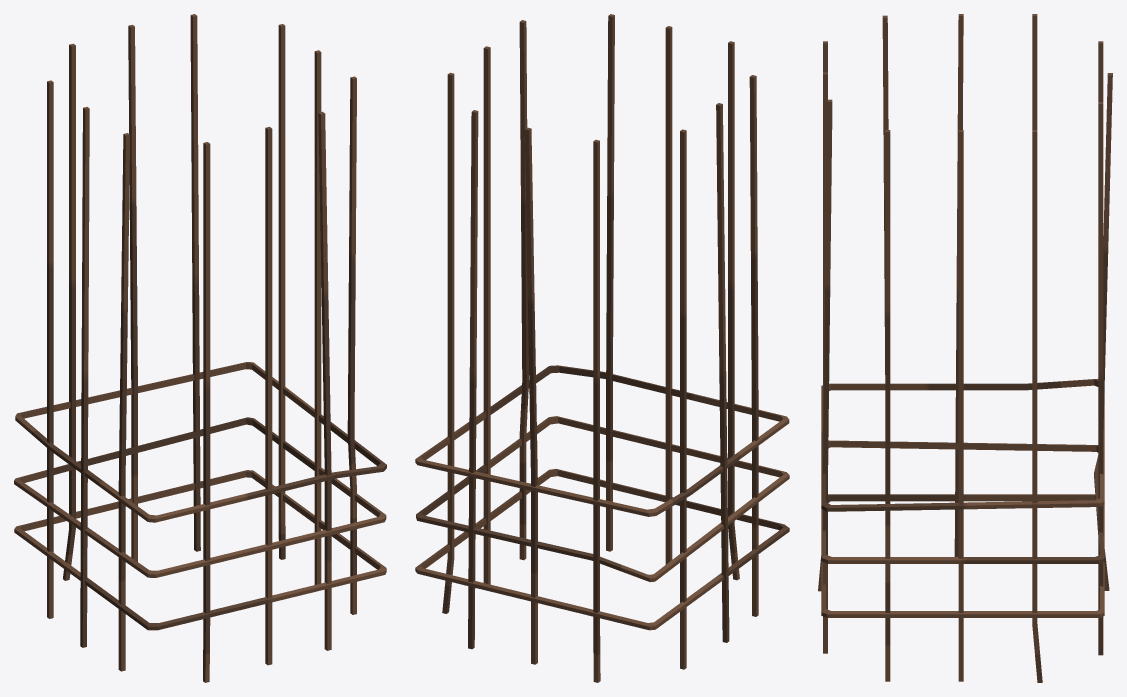
The model's file is SM_Bld_ConcreteRebar_Pillar_Short_01.fbx.
The picture shows the model from 3 angles, left to right: view 1: azimuth 30°, elevation 25°; view 2: azimuth 150°, elevation 25°; view 3: azimuth 270°, elevation 25°; orthographic projection. The views are drawn at different scales.
Parts seen in each view (by area): view 1: SM_Bld_ConcreteRebar_Pillar_Short_01; view 2: SM_Bld_ConcreteRebar_Pillar_Short_01; view 3: SM_Bld_ConcreteRebar_Pillar_Short_01.
Part boxes in pixels (x1,y1,x2,y2): SM_Bld_ConcreteRebar_Pillar_Short_01: (14,14,386,682); SM_Bld_ConcreteRebar_Pillar_Short_01: (415,14,789,682); SM_Bld_ConcreteRebar_Pillar_Short_01: (818,14,1112,682).
Size of the model in its own units: 139 by 292 by 142.
